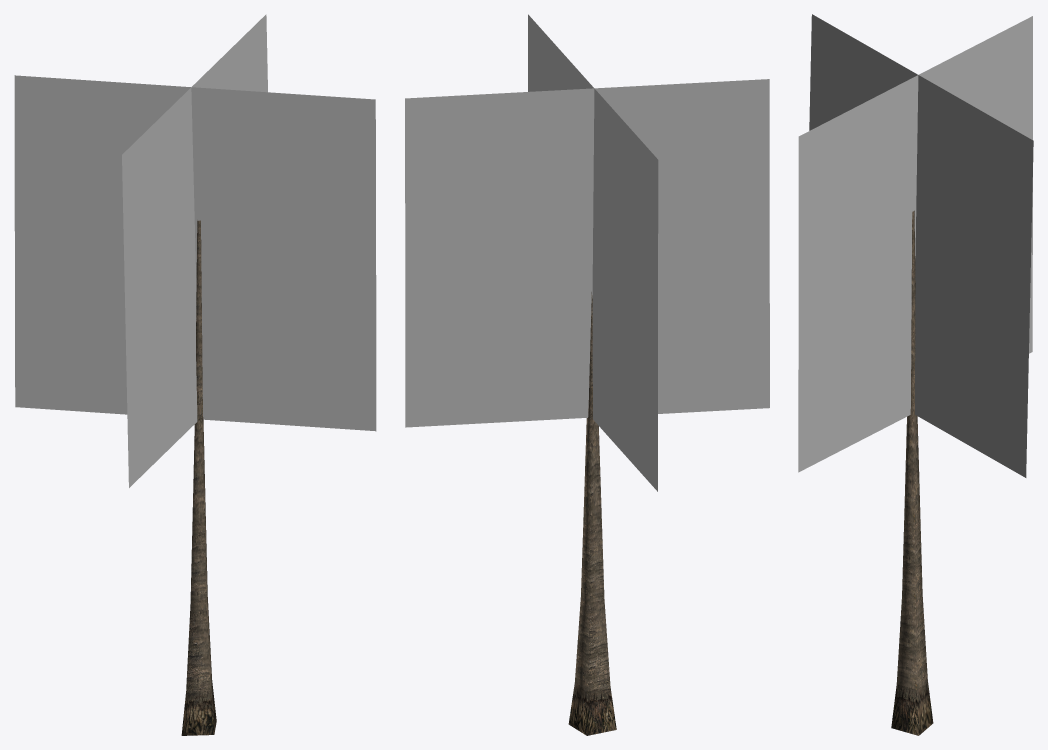
The model's file is nature_palm_generic_lod02.fbx.
3 views of the same model, side by side, from view 1: azimuth 30°, elevation 25°; view 2: azimuth 150°, elevation 25°; view 3: azimuth 270°, elevation 25° (orthographic).
Parts seen in each view (by area): view 1: nature_palm_generic_leaves_lod02, nature_palm_generic_bark_lod02; view 2: nature_palm_generic_leaves_lod02, nature_palm_generic_bark_lod02; view 3: nature_palm_generic_leaves_lod02, nature_palm_generic_bark_lod02.
Part boxes in pixels (box(x1,y1,x2,y2)): nature_palm_generic_leaves_lod02: box(14, 14, 376, 487); nature_palm_generic_bark_lod02: box(181, 220, 216, 735); nature_palm_generic_leaves_lod02: box(405, 14, 769, 491); nature_palm_generic_bark_lod02: box(568, 292, 616, 735); nature_palm_generic_leaves_lod02: box(798, 14, 1033, 477); nature_palm_generic_bark_lod02: box(891, 210, 933, 735).
Bounding box in the file's own units: 1081 × 2572 × 845.
